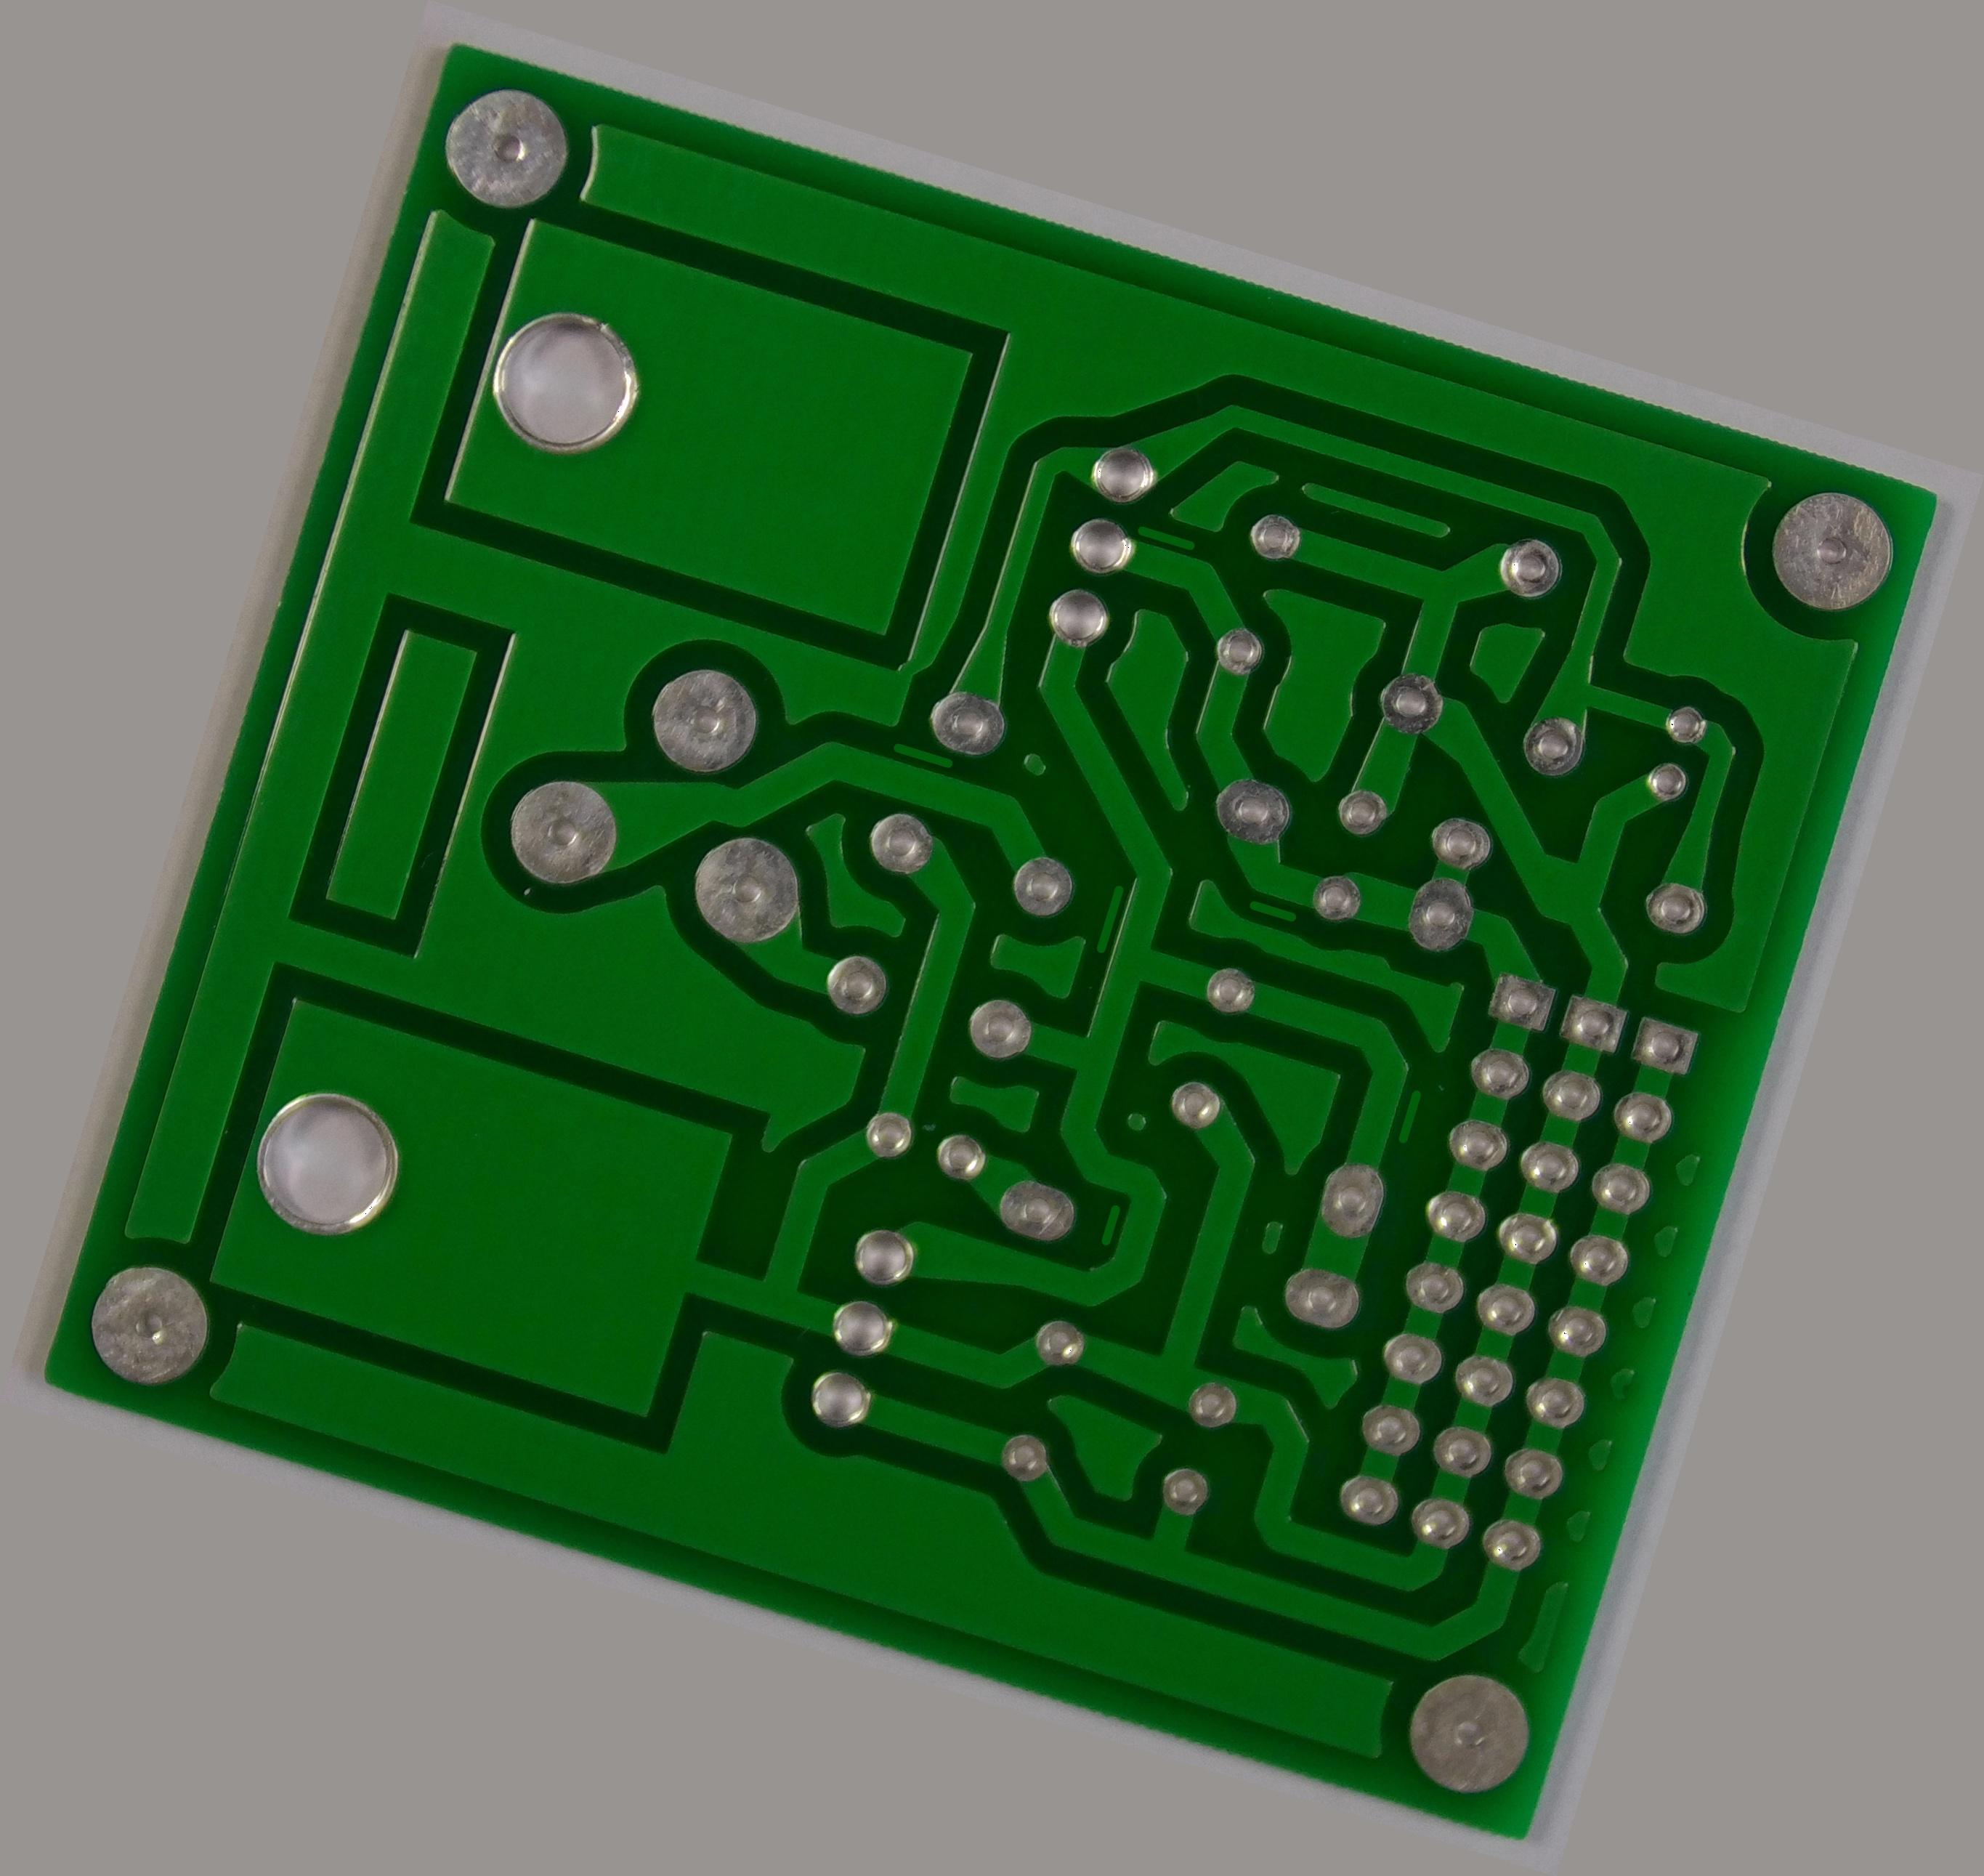spurious_copper: (1076, 869, 1139, 963), (884, 726, 965, 785), (1129, 511, 1203, 564), (1383, 1074, 1432, 1151), (1083, 1187, 1134, 1255), (1236, 883, 1305, 933)
